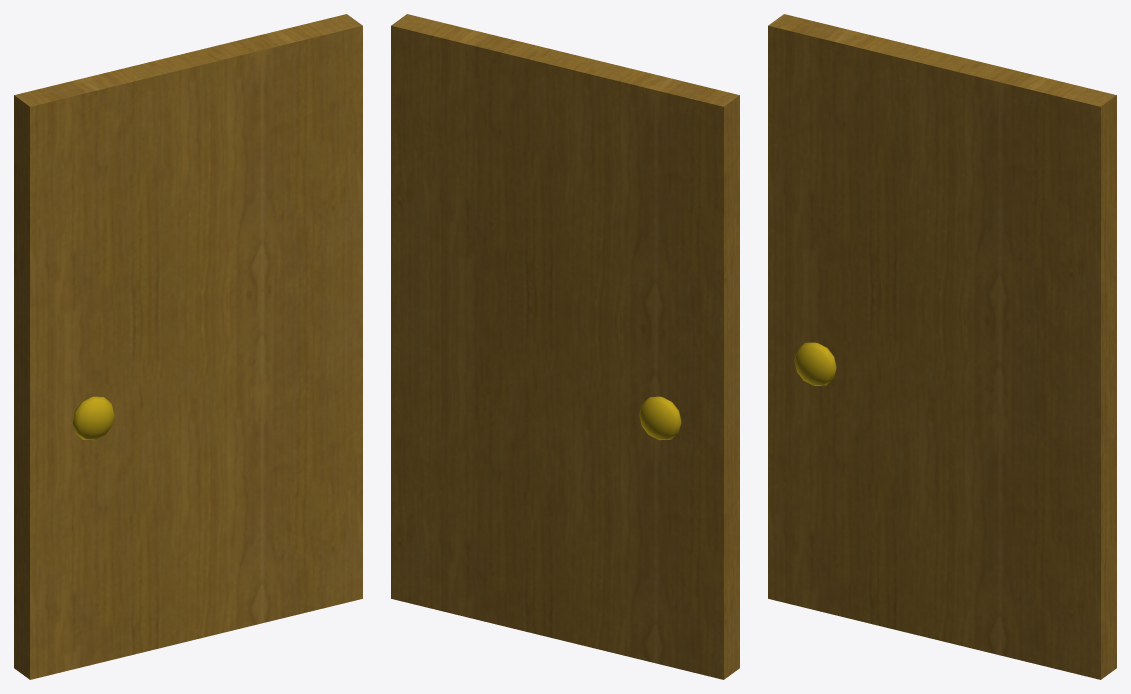
Rendered from door.fbx.
3 views of the same model, side by side, from view 1: azimuth 30°, elevation 25°; view 2: azimuth 150°, elevation 25°; view 3: azimuth 330°, elevation 25° (orthographic).
Visible parts, largest first — view 1: door, handle; view 2: door, handle; view 3: door, handle.
Boxes of the visible parts, <box> form: door: <box>14,14,362,679</box>; handle: <box>72,396,114,440</box>; door: <box>391,14,739,679</box>; handle: <box>639,396,681,440</box>; door: <box>768,14,1116,679</box>; handle: <box>794,342,836,385</box>.
Bounding box in the file's own units: 6 × 9.88 × 1.38.
Materials: 1 (1 with a texture image).
